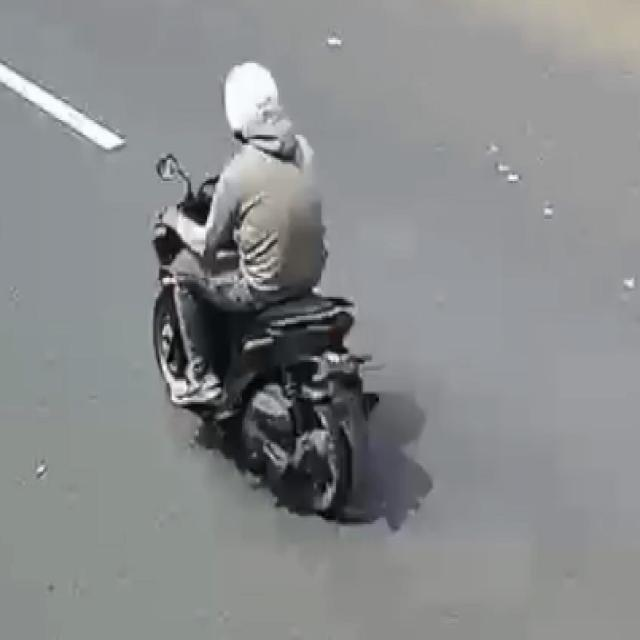helm: (221, 61, 293, 142)
motor: (146, 57, 380, 533)
spion: (145, 153, 202, 212)
